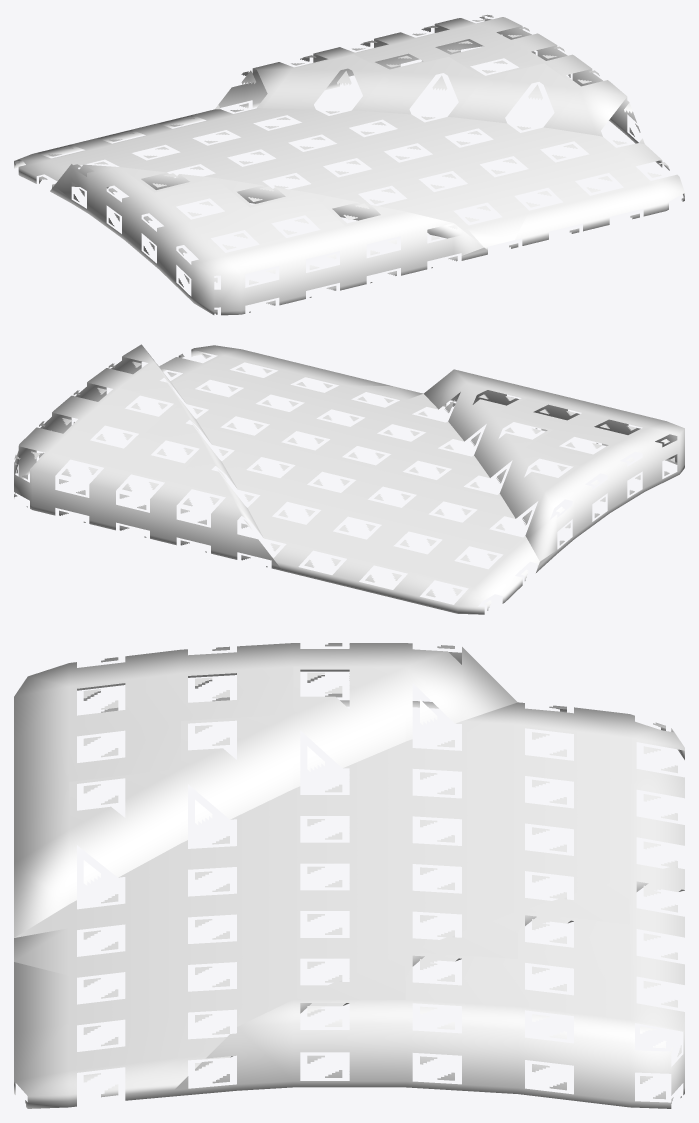
The model's file is fobj_base_bridge.dae.
3 views of the same model, one above another, from view 1: azimuth 30°, elevation 25°; view 2: azimuth 150°, elevation 25°; view 3: azimuth 270°, elevation 25° (orthographic). The views are drawn at different scales.
Parts seen in each view (by area): view 1: fobj_base_bridge; view 2: fobj_base_bridge; view 3: fobj_base_bridge.
Part boxes in pixels (x1=…): fobj_base_bridge: x1=14, y1=14, x2=684, y2=315; fobj_base_bridge: x1=14, y1=344, x2=684, y2=614; fobj_base_bridge: x1=14, y1=643, x2=684, y2=1108.
Size of the model in its own units: 256 by 29.39 by 191.
Materials: 4 (4 with a texture image).
